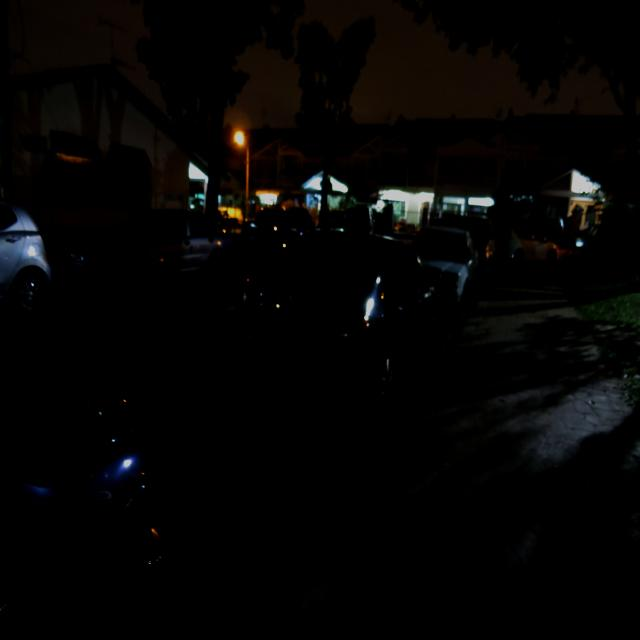Car: (234, 231, 437, 417), (70, 205, 234, 289), (1, 196, 53, 322)
